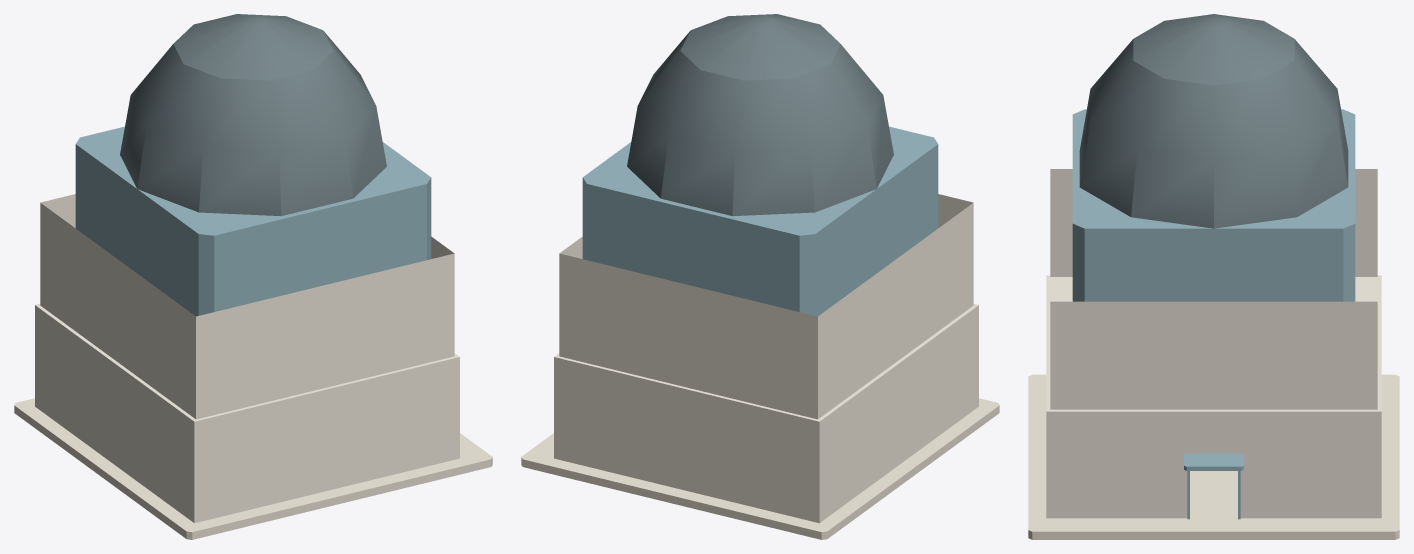
File: Halo_Observatory_v4_ShadowProxy.glb
3 views of the same model, side by side, from view 1: azimuth 30°, elevation 25°; view 2: azimuth 150°, elevation 25°; view 3: azimuth 270°, elevation 25° (orthographic). The views are drawn at different scales.
Parts seen in each view (by area): view 1: Halo_Observatory_v4_ShadowProxy / Structure, Halo_Observatory_v4_ShadowProxy / Optical dome, Halo_Observatory_v4_ShadowProxy / Foundation; view 2: Halo_Observatory_v4_ShadowProxy / Structure, Halo_Observatory_v4_ShadowProxy / Optical dome, Halo_Observatory_v4_ShadowProxy / Foundation; view 3: Halo_Observatory_v4_ShadowProxy / Structure, Halo_Observatory_v4_ShadowProxy / Optical dome, Halo_Observatory_v4_ShadowProxy / Foundation, Halo_Observatory_v4_ShadowProxy / Entrance modules.
Part boxes in pixels (<box>): Halo_Observatory_v4_ShadowProxy / Structure: <box>35,194,459,523</box>; Halo_Observatory_v4_ShadowProxy / Optical dome: <box>75,14,431,316</box>; Halo_Observatory_v4_ShadowProxy / Foundation: <box>14,398,492,539</box>; Halo_Observatory_v4_ShadowProxy / Structure: <box>554,194,978,523</box>; Halo_Observatory_v4_ShadowProxy / Optical dome: <box>582,14,938,316</box>; Halo_Observatory_v4_ShadowProxy / Foundation: <box>521,398,999,539</box>; Halo_Observatory_v4_ShadowProxy / Structure: <box>1046,169,1381,518</box>; Halo_Observatory_v4_ShadowProxy / Optical dome: <box>1072,14,1355,301</box>; Halo_Observatory_v4_ShadowProxy / Foundation: <box>1028,374,1399,539</box>; Halo_Observatory_v4_ShadowProxy / Entrance modules: <box>1184,453,1243,535</box>.
Size of the model in its own units: 14 by 18.28 by 14.
